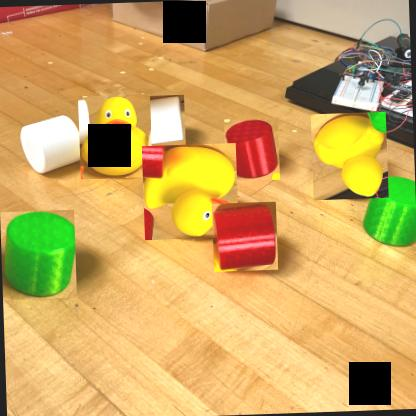duck: (142, 144, 240, 240), (311, 112, 389, 200), (78, 94, 153, 180)
green cylinder: (0, 210, 77, 301), (358, 172, 416, 248)
red cylinder: (212, 202, 278, 272), (224, 118, 280, 182)
white cylinder: (18, 113, 86, 176), (138, 95, 186, 147)
